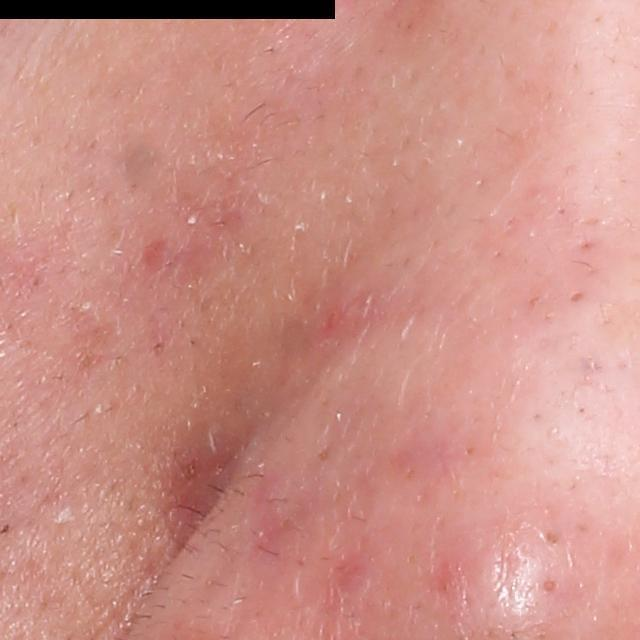comedo: (564, 289, 589, 310), (542, 577, 559, 593)
